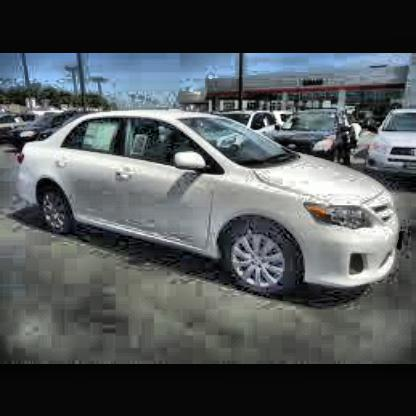Toyota Corolla Sedan 2012: (16, 104, 407, 311)
